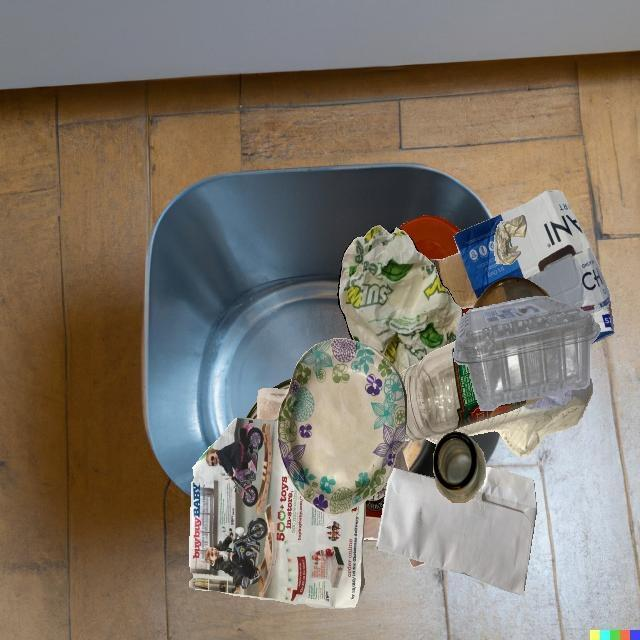cardboard: (429, 190, 614, 344), (277, 339, 407, 516)
glass: (400, 341, 545, 441), (433, 431, 486, 503), (245, 400, 258, 419), (272, 379, 292, 389)
paper: (189, 418, 366, 610), (376, 467, 537, 596), (338, 225, 462, 375), (279, 402, 397, 519), (406, 317, 508, 442), (508, 378, 592, 456), (378, 469, 407, 558), (438, 431, 516, 454), (494, 214, 527, 265)
plastic: (453, 296, 600, 410), (399, 215, 461, 260), (473, 277, 550, 309), (273, 418, 278, 421)
